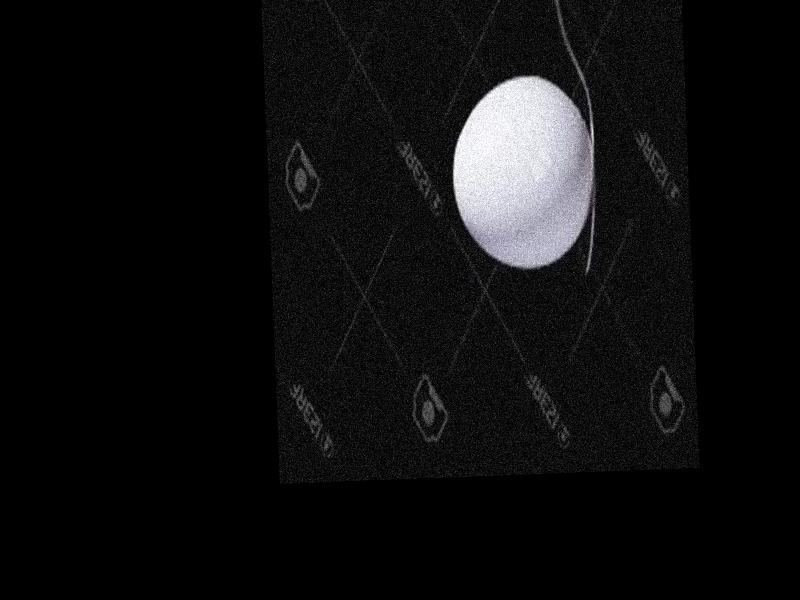Eggs: (451, 73, 597, 271)
